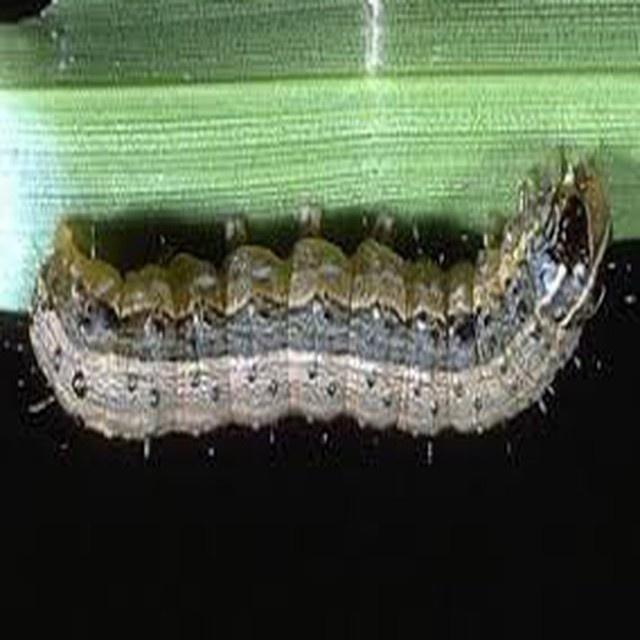gusano_cogollero: (42, 154, 610, 444)
